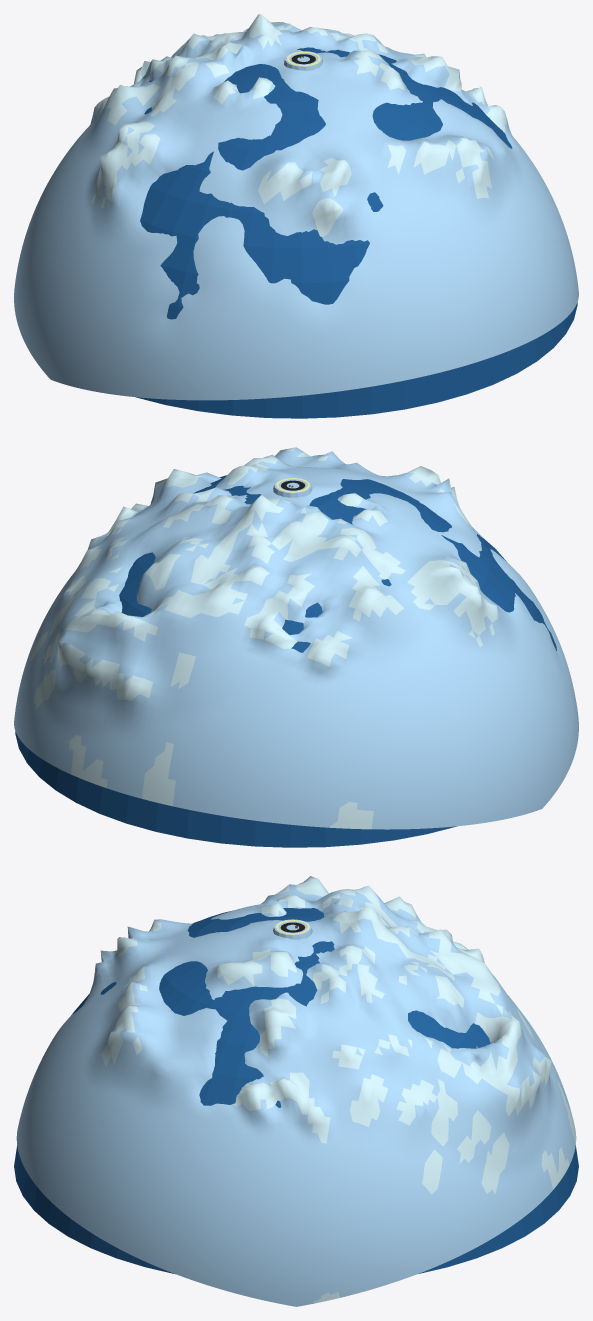
The model's file is earth.DAE.
The picture shows the model from 3 angles, top to bottom: view 1: azimuth 30°, elevation 25°; view 2: azimuth 150°, elevation 25°; view 3: azimuth 270°, elevation 25°; orthographic projection.
Parts seen in each view (by area): view 1: earth, water, launch pad; view 2: earth, water, launch pad; view 3: earth, water, launch pad.
Part boxes in pixels (x1=…): earth: x1=14, y1=14, x2=578, y2=400; water: x1=136, y1=47, x2=577, y2=418; launch pad: x1=284, y1=51, x2=322, y2=70; earth: x1=14, y1=447, x2=578, y2=829; water: x1=15, y1=475, x2=556, y2=847; launch pad: x1=273, y1=477, x2=312, y2=497; earth: x1=16, y1=876, x2=576, y2=1306; water: x1=14, y1=908, x2=578, y2=1273; launch pad: x1=273, y1=919, x2=312, y2=939.
Size of the model in its own units: 187 by 101 by 185.
